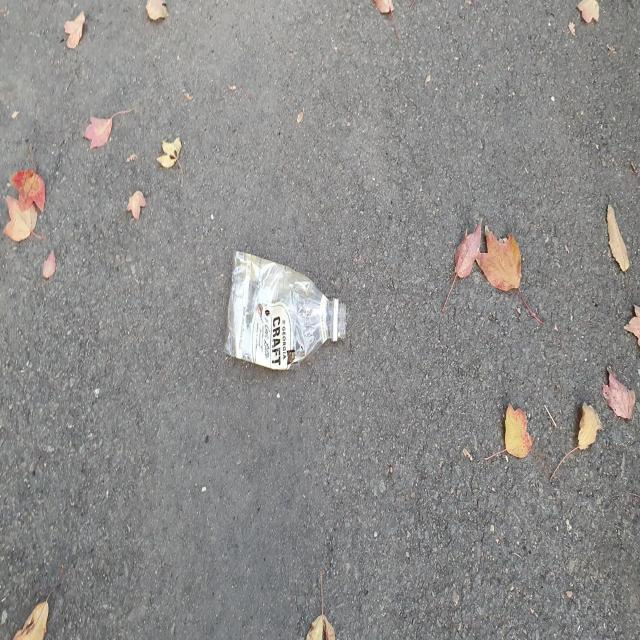plastic: (225, 251, 346, 369)
